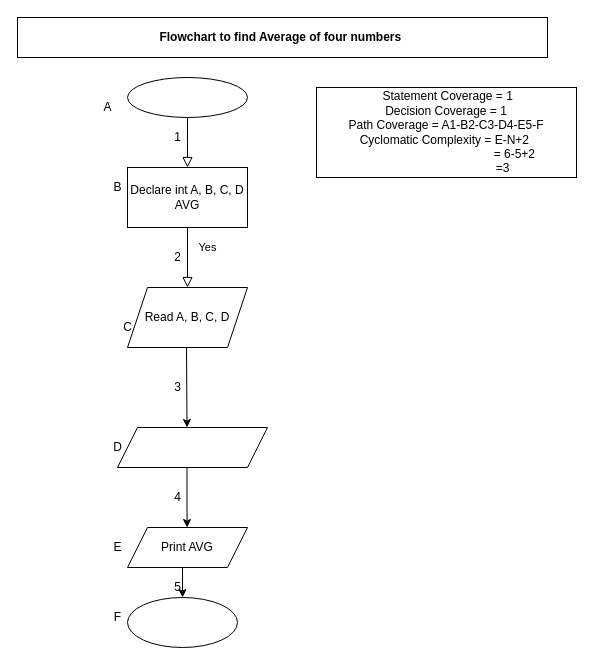
This 594x665 diagram has some shape labels left out. Each missing label, with the centre of its shape:
AVG = (A+B+C+D)/4: the point at 192,447
Start: the point at 187,97
Stop: the point at 182,622
